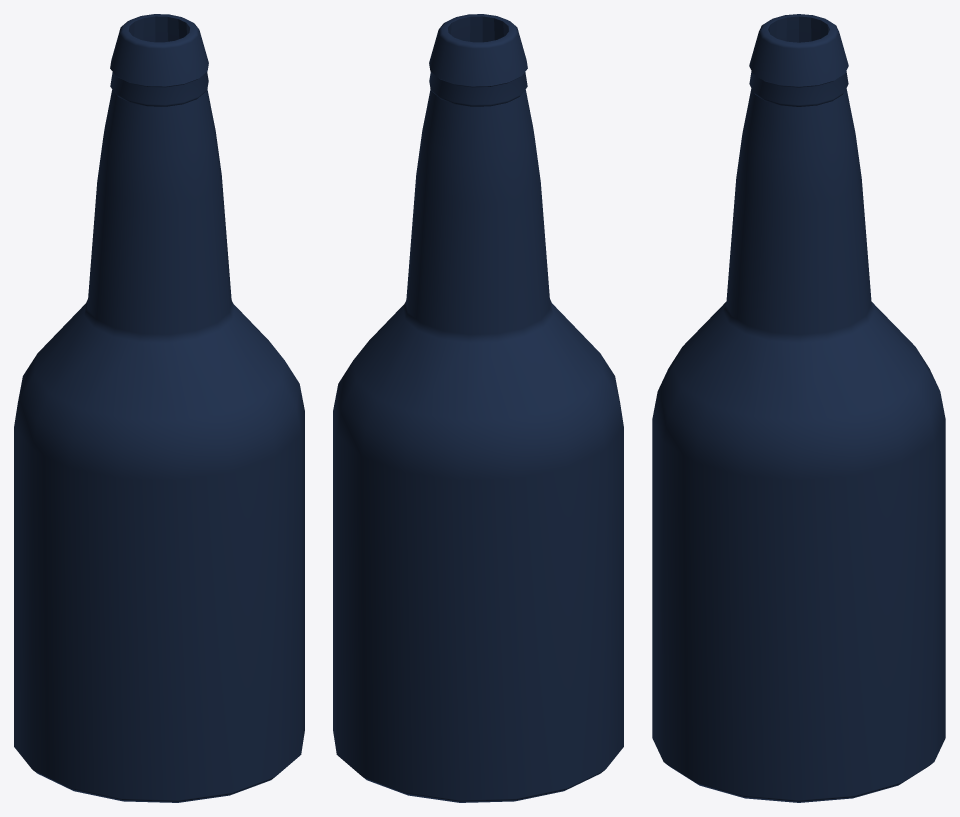
File: SM_SPProps_Mesh07.FBX
3 views of the same model, side by side, from view 1: azimuth 30°, elevation 25°; view 2: azimuth 150°, elevation 25°; view 3: azimuth 270°, elevation 25° (orthographic).
Visible parts, largest first — view 1: SM_SPProps_Mesh07_LOD0; view 2: SM_SPProps_Mesh07_LOD0; view 3: SM_SPProps_Mesh07_LOD0.
Boxes of the visible parts, left/top/right/bottom form: SM_SPProps_Mesh07_LOD0: left=14, top=14, right=304, bottom=802; SM_SPProps_Mesh07_LOD0: left=333, top=14, right=623, bottom=802; SM_SPProps_Mesh07_LOD0: left=652, top=14, right=945, bottom=802.
Size of what is drawn, in the model's own units: 8.95 by 8.95 by 24.05.
